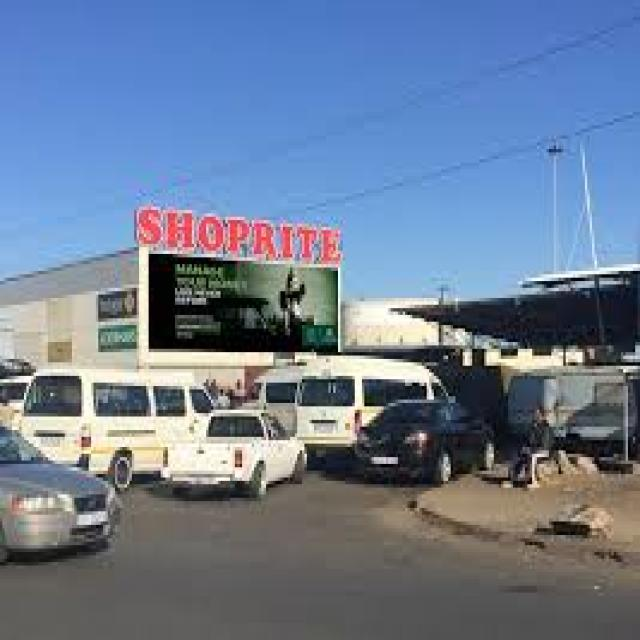MiniBus taxi: (19, 376, 225, 467), (295, 352, 371, 457)
Passenger Car: (2, 427, 120, 569), (360, 400, 501, 494)
